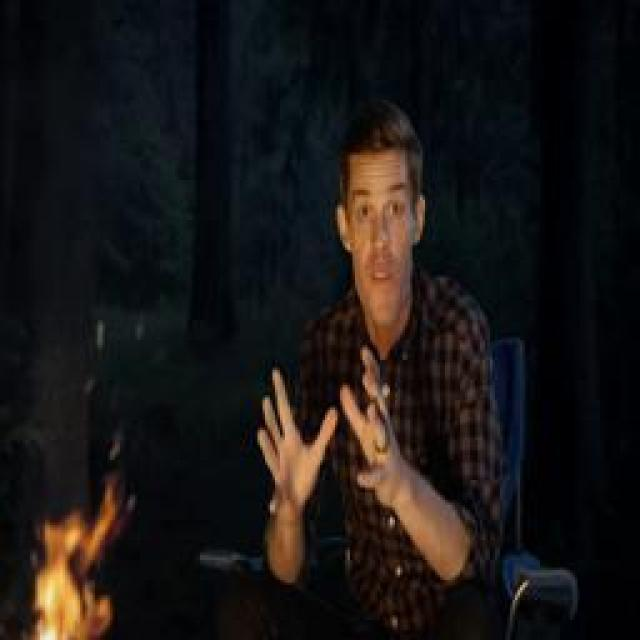Fire: (34, 475, 118, 640)
